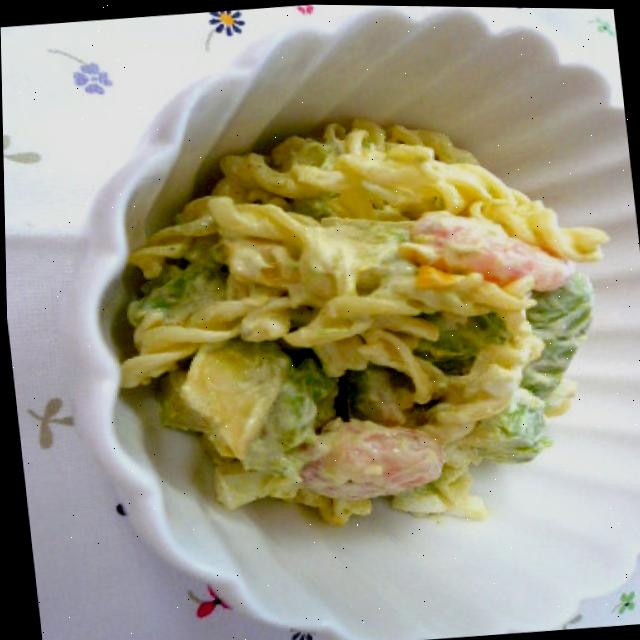蔬菜料理: (25, 0, 640, 640)
